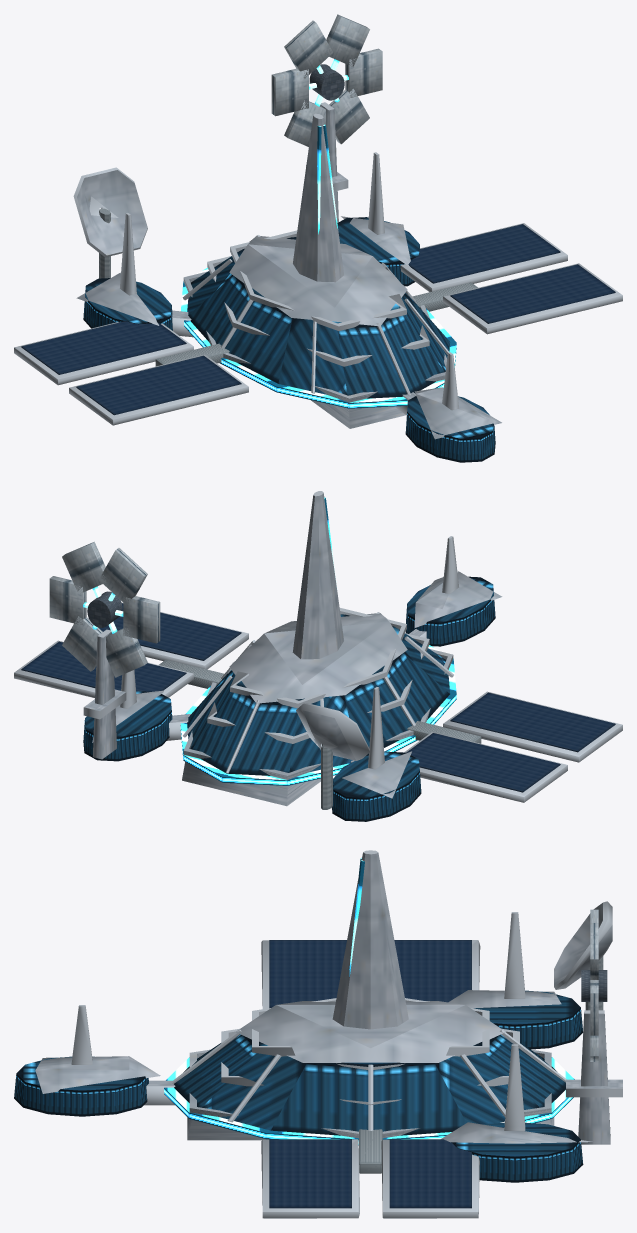
File: alliance_research_outpost_recreated_lod2.glb
3 views of the same model, one above another, from view 1: azimuth 30°, elevation 25°; view 2: azimuth 150°, elevation 25°; view 3: azimuth 270°, elevation 25° (orthographic). The views are drawn at different scales.
Visible parts, largest first — view 1: alliance_research_outpost_far_source; view 2: alliance_research_outpost_far_source; view 3: alliance_research_outpost_far_source.
Part boxes in pixels (box(x1,y1,x2,y2)): alliance_research_outpost_far_source: box(14, 14, 622, 462); alliance_research_outpost_far_source: box(14, 491, 622, 821); alliance_research_outpost_far_source: box(14, 850, 622, 1218).
Size of the model in its own units: 7.54 by 3.37 by 7.14.
1 material, 1 textured.
